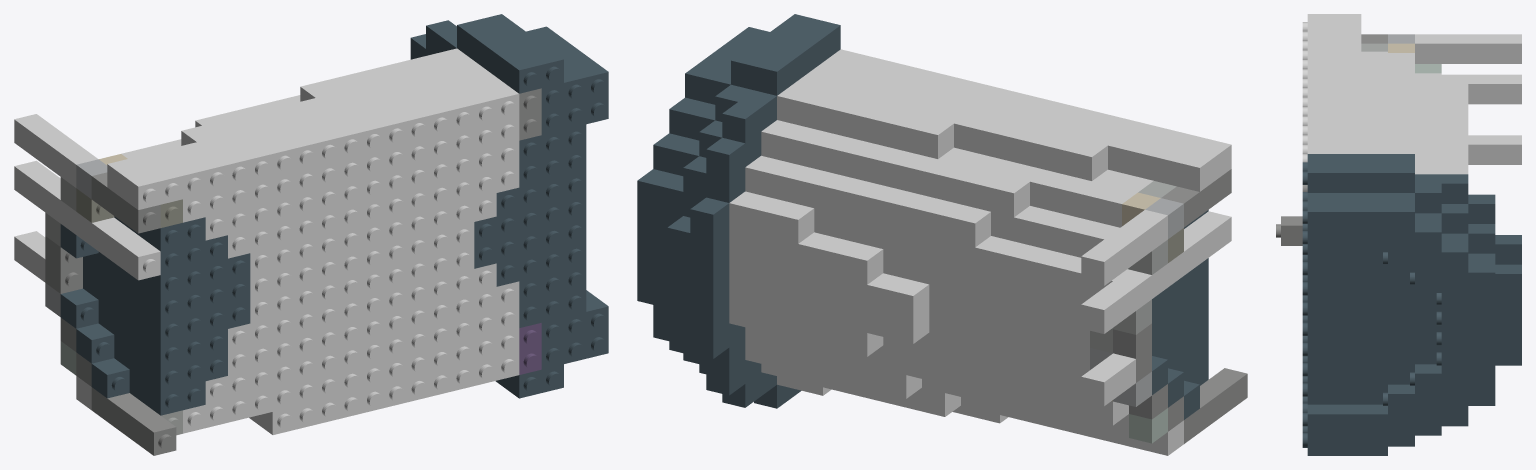
File: full.glb
The picture shows the model from 3 angles, left to right: view 1: azimuth 30°, elevation 25°; view 2: azimuth 150°, elevation 25°; view 3: azimuth 270°, elevation 25°; orthographic projection. The views are drawn at different scales.
Parts seen in each view (by area): view 1: world; view 2: world; view 3: world.
Part boxes in pixels (bbox=[...]): world: bbox=[14, 14, 608, 455]; world: bbox=[637, 14, 1247, 455]; world: bbox=[1276, 14, 1521, 455].
Size of the model in its own units: 168 by 112 by 88.2.
